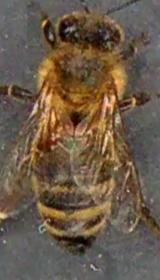varroa_mite: (30, 130, 67, 152)
